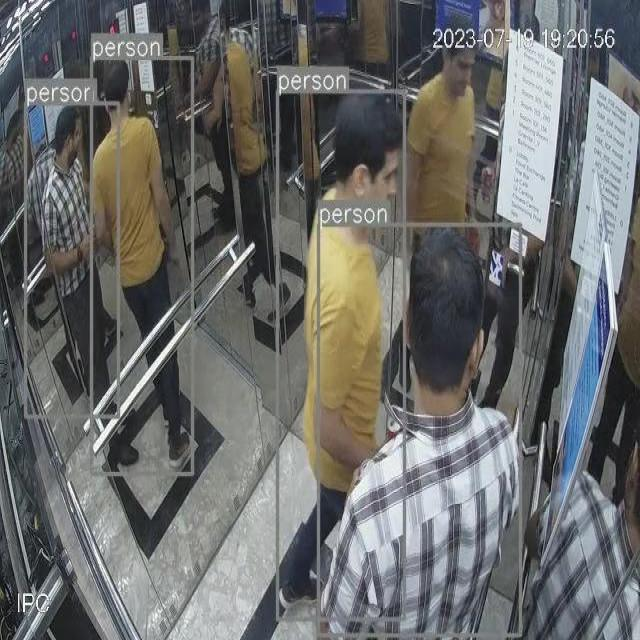person: (316, 226, 522, 634), (280, 92, 406, 620), (89, 62, 192, 470), (31, 104, 117, 416), (405, 21, 487, 224)
